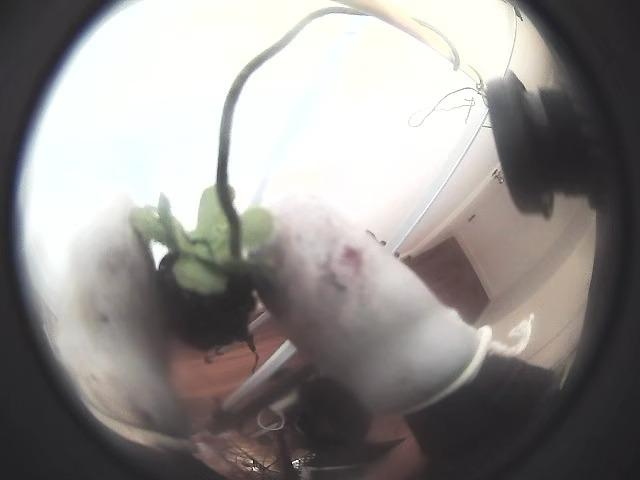berry: (133, 185, 255, 351), (241, 208, 271, 246)
gripper: (252, 197, 516, 412), (51, 191, 188, 448)
lense: (0, 0, 209, 479), (475, 0, 639, 479)
